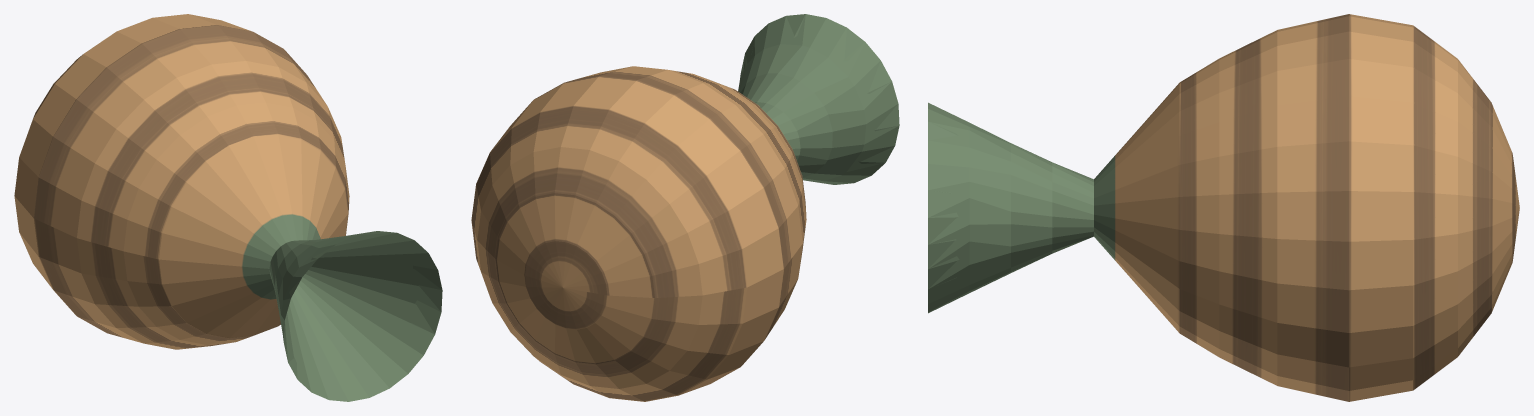
The model's file is 002_candy2.fbx.
3 views of the same model, side by side, from view 1: azimuth 30°, elevation 25°; view 2: azimuth 150°, elevation 25°; view 3: azimuth 270°, elevation 25° (orthographic). The views are drawn at different scales.
Visible parts, largest first — view 1: candy2; view 2: candy2; view 3: candy2.
Part boxes in pixels (left/top/right/bottom): candy2: left=14, top=14, right=442, bottom=401; candy2: left=471, top=14, right=899, bottom=401; candy2: left=928, top=14, right=1519, bottom=401.
Bounding box in the file's own units: 23.53 × 23.53 × 35.75.
1 material, 1 textured.
